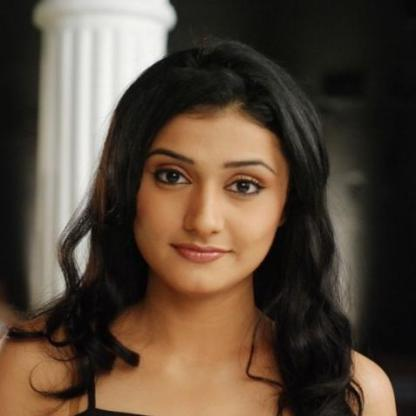long-hair: (38, 293, 364, 367)
